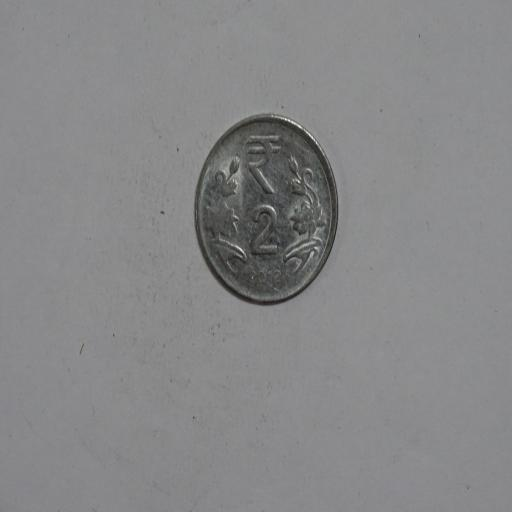rupee2: (192, 114, 338, 303)
